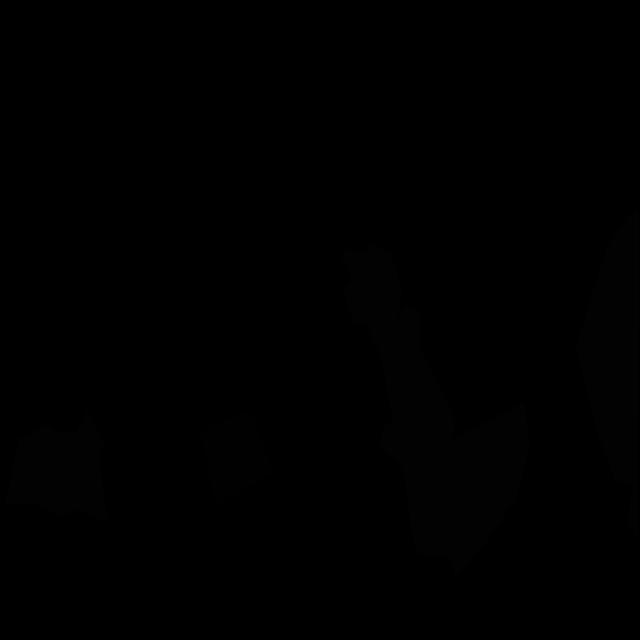cardboard: (380, 390, 530, 576), (339, 244, 456, 437), (576, 207, 639, 541), (4, 409, 108, 521)
rigid_plastic: (200, 410, 274, 504)
